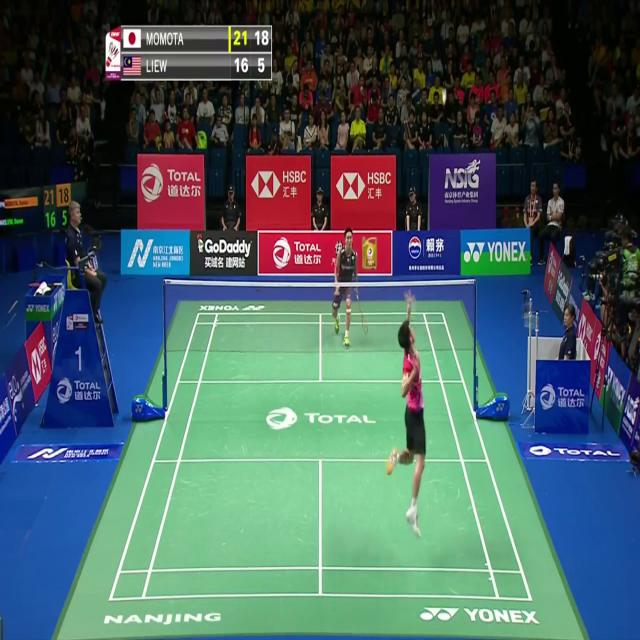Shuttlecock: (441, 89, 447, 101)
